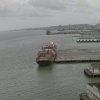Boat: (33, 38, 59, 74)
